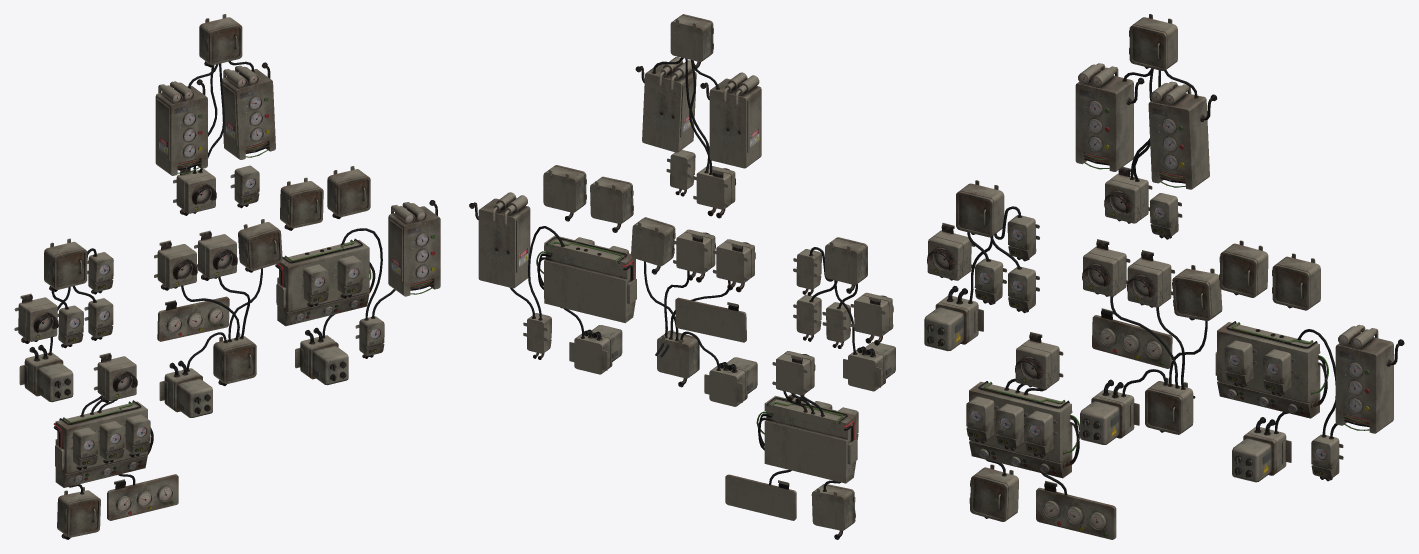
Rendered from WallCountersPack1.fbx.
3 views of the same model, side by side, from view 1: azimuth 30°, elevation 25°; view 2: azimuth 150°, elevation 25°; view 3: azimuth 330°, elevation 25° (orthographic). The views are drawn at different scales.
Parts seen in each view (by area): view 1: SM_WallCounters_A.mo, SM_WallCounters_D.mo, SM_WallCounters_E.mo, SM_WallCounters_B.mo, SM_WallCounters_C.mo; view 2: SM_WallCounters_A.mo, SM_WallCounters_D.mo, SM_WallCounters_E.mo, SM_WallCounters_B.mo, SM_WallCounters_C.mo; view 3: SM_WallCounters_A.mo, SM_WallCounters_D.mo, SM_WallCounters_E.mo, SM_WallCounters_B.mo, SM_WallCounters_C.mo.
Boxes of the visible parts, x1,y1,x2,y2 form: SM_WallCounters_A.mo: [275, 166, 440, 385]; SM_WallCounters_D.mo: [155, 14, 275, 215]; SM_WallCounters_E.mo: [53, 353, 178, 539]; SM_WallCounters_B.mo: [154, 219, 282, 417]; SM_WallCounters_C.mo: [14, 238, 113, 402]; SM_WallCounters_A.mo: [469, 165, 636, 374]; SM_WallCounters_D.mo: [635, 14, 761, 218]; SM_WallCounters_E.mo: [725, 351, 858, 539]; SM_WallCounters_B.mo: [631, 217, 757, 406]; SM_WallCounters_C.mo: [793, 237, 895, 391]; SM_WallCounters_A.mo: [1215, 240, 1404, 482]; SM_WallCounters_D.mo: [1075, 14, 1217, 239]; SM_WallCounters_E.mo: [966, 332, 1116, 539]; SM_WallCounters_B.mo: [1080, 239, 1222, 444]; SM_WallCounters_C.mo: [924, 180, 1039, 351].
Size of the model in its own units: 473 by 522 by 60.96.
